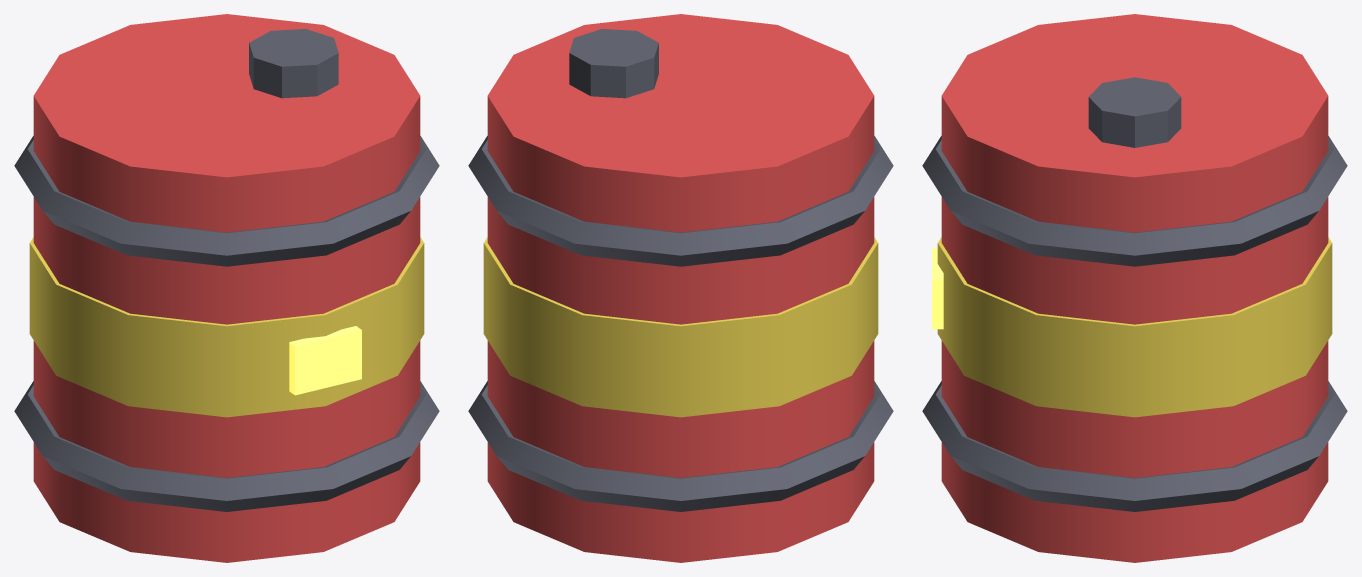
Rendered from barrel.glb.
3 views of the same model, side by side, from view 1: azimuth 30°, elevation 25°; view 2: azimuth 150°, elevation 25°; view 3: azimuth 270°, elevation 25° (orthographic).
Visible parts, largest first — view 1: torso; view 2: torso; view 3: torso.
Part boxes in pixels (<box>): torso: <box>14,14,439,562</box>; torso: <box>468,14,893,562</box>; torso: <box>922,14,1347,562</box>.
Bounding box in the file's own units: 1.1 × 1.19 × 1.1.
